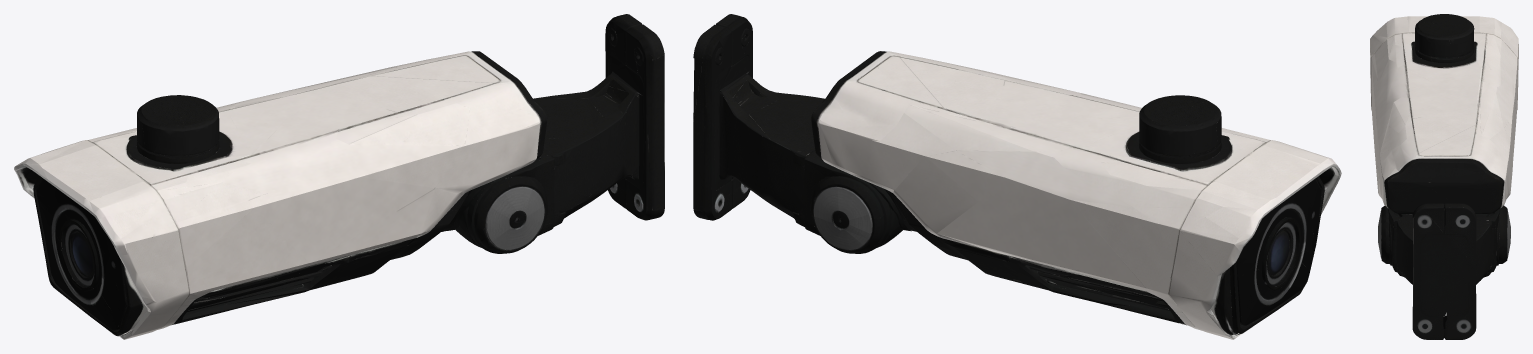
Rendered from camera_head.glb.
3 views of the same model, side by side, from view 1: azimuth 30°, elevation 25°; view 2: azimuth 150°, elevation 25°; view 3: azimuth 270°, elevation 25° (orthographic). The views are drawn at different scales.
Visible parts, largest first — view 1: output_unwrapped; view 2: output_unwrapped; view 3: output_unwrapped.
Boxes of the visible parts, box(x1,y1,x2,y2) form: output_unwrapped: box(14, 14, 664, 339); output_unwrapped: box(693, 14, 1341, 339); output_unwrapped: box(1370, 14, 1518, 339).
Bounding box in the file's own units: 0.6008 × 0.207 × 0.1839.
Materials: 1 (1 with a texture image).
